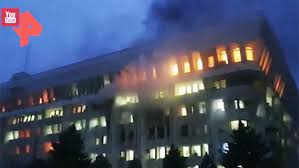fire: (132, 32, 293, 106)
